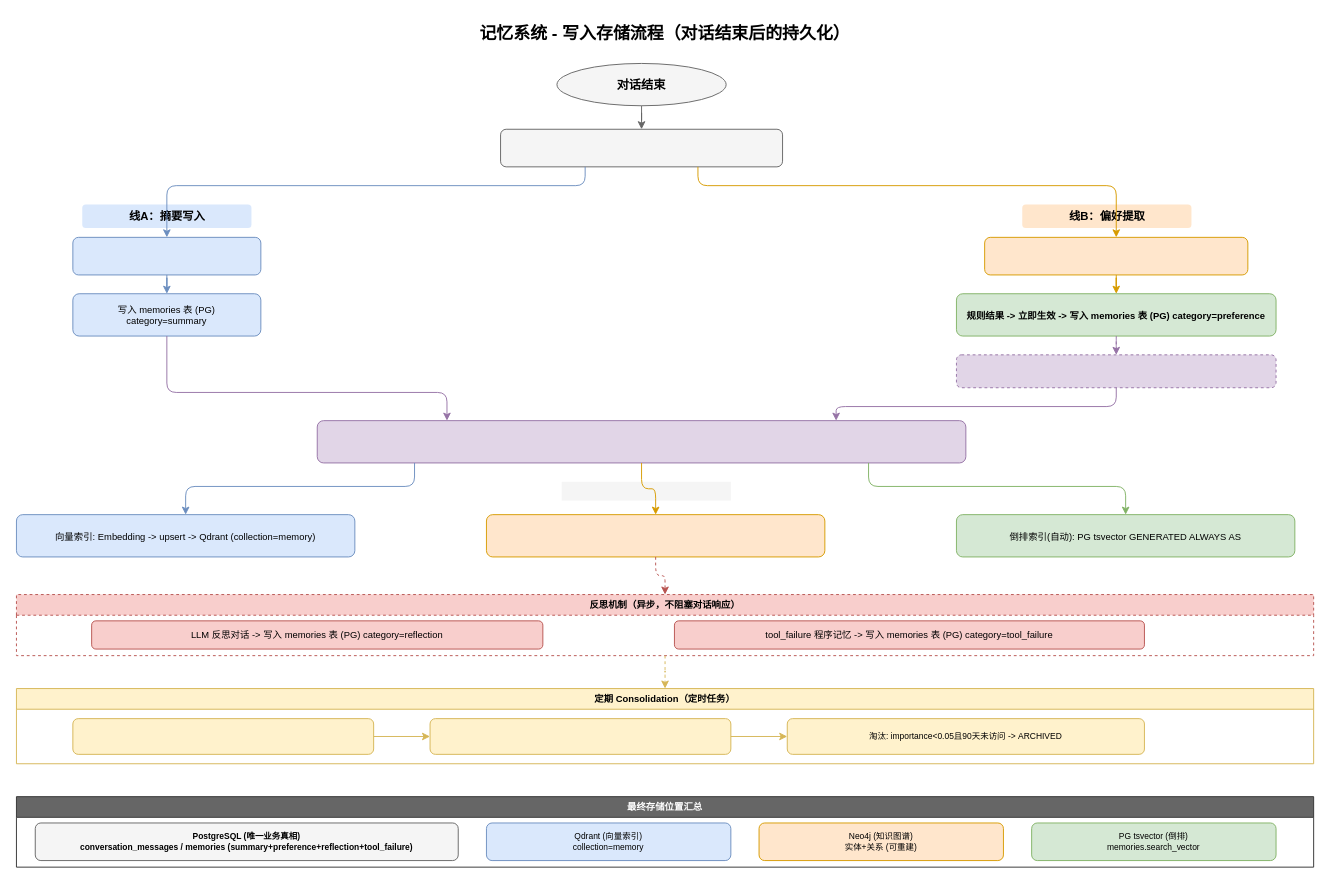
Some shapes in this 1330 by 884 pixel diagram are drawn without their labels. Here are the shapes that lost their labels. From the top down, the centre of each, then its label:
At point (641, 147): "保存消息 -> conversation_messages 表 (PG)".
At point (166, 255): "User输入 + Assistant回答".
At point (1116, 255): "PreferenceExtractor 规则提取 (关键词匹配)".
At point (1116, 371): "LLM NER 提取 -> 异步覆盖/补充 (写入同表)".
At point (641, 441): "语义去重: 与已有记忆计算相似度 -- >=0.85更新importance / <0.85正常写入".
At point (645, 490): "三路索引写入（并行）".
At point (655, 535): "知识图谱: LLM提取实体关系 -> Neo4j CREATE节点和关系边".
At point (223, 736): "衰减: 7天未更新 importance*0.95".
At point (580, 736): "合并: 相似度>=0.9保留importance最高".
